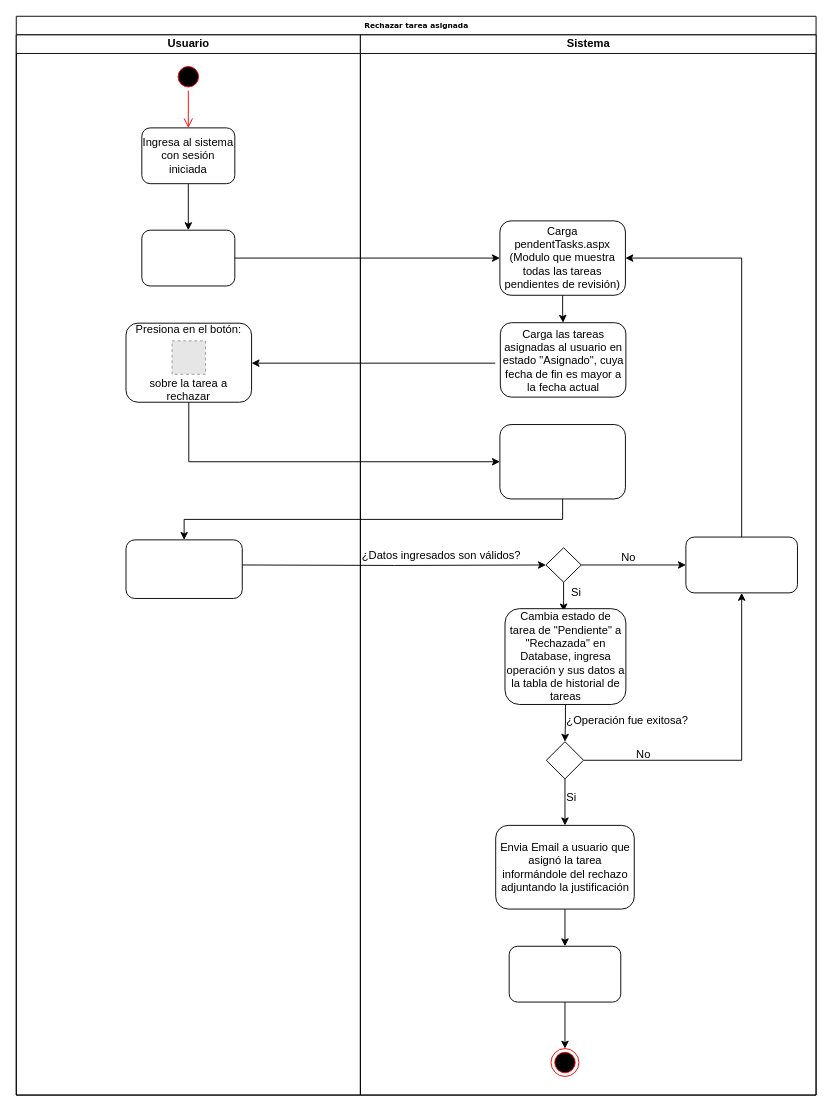
The diagram is 832 pixels wide and 1111 high, and some of its shapes have lost their labels. Grey dashed boxes stand in for pictures. The centre of each missing label's shape, as x and y in pixels:
Carga pendentTasks.aspx con tareas actualizadas: point (564, 973)
Carga rejectJustification.aspx: point (562, 461)
Ingresa justificación de rechazo de tarea en Textarea correspondiente: point (183, 568)
Muestra mensaje de error: point (741, 564)
Presiona módulo "Tareas pendientes": point (188, 257)
